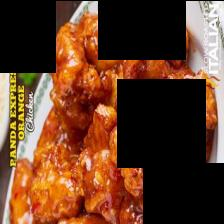orange: (9, 3, 215, 224), (72, 147, 124, 224), (9, 158, 33, 224)
